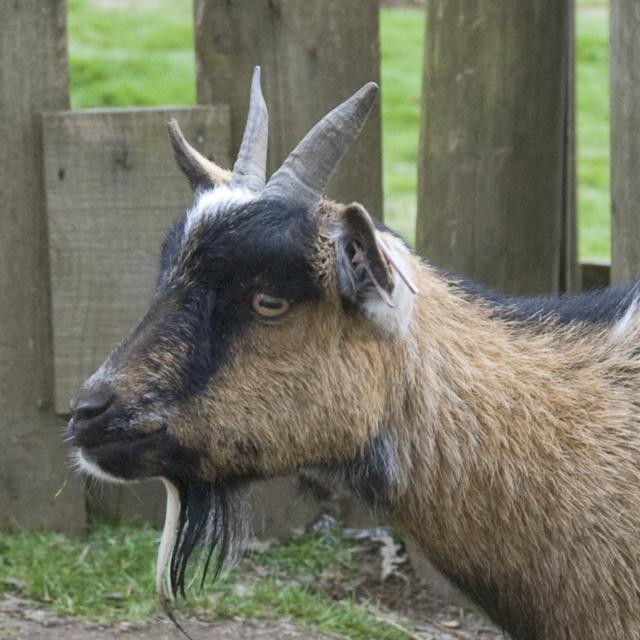Goat: (63, 65, 640, 640)
